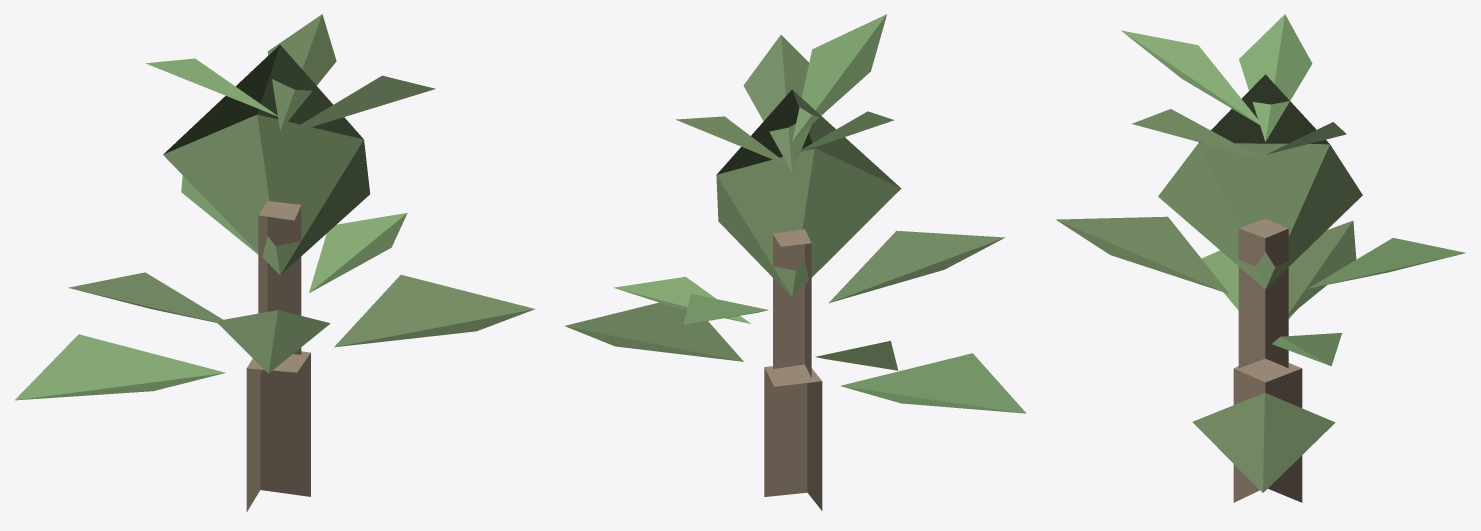
File: cao.luwei@seedling__summer.glb
3 views of the same model, side by side, from view 1: azimuth 30°, elevation 25°; view 2: azimuth 150°, elevation 25°; view 3: azimuth 270°, elevation 25° (orthographic). The views are drawn at different scales.
Visible parts, largest first — view 1: cao.luwei@seedling__summer; view 2: cao.luwei@seedling__summer; view 3: cao.luwei@seedling__summer.
Boxes of the visible parts, x1,y1,x2,y2 form: cao.luwei@seedling__summer: (15, 14, 534, 511); cao.luwei@seedling__summer: (565, 14, 1026, 510); cao.luwei@seedling__summer: (1056, 14, 1465, 502).
Size of the model in its own units: 0.2578 by 0.235 by 0.1904.
